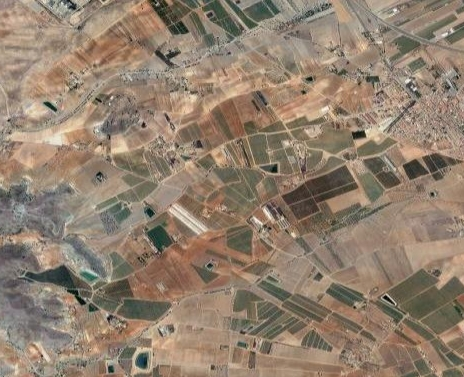motorway: (356, 1, 464, 56)
